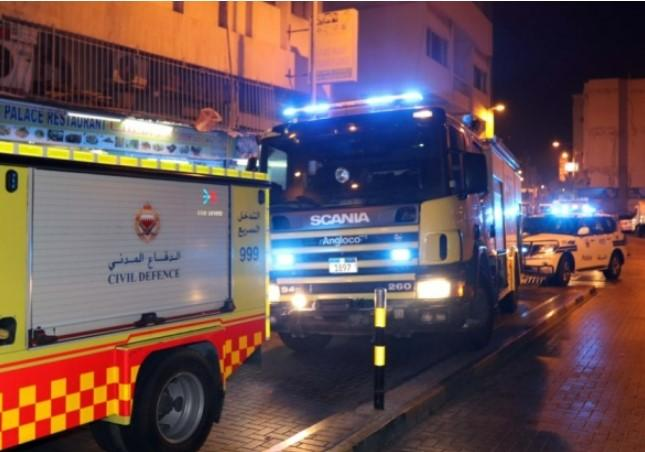firetruck_on: (247, 89, 518, 354)
